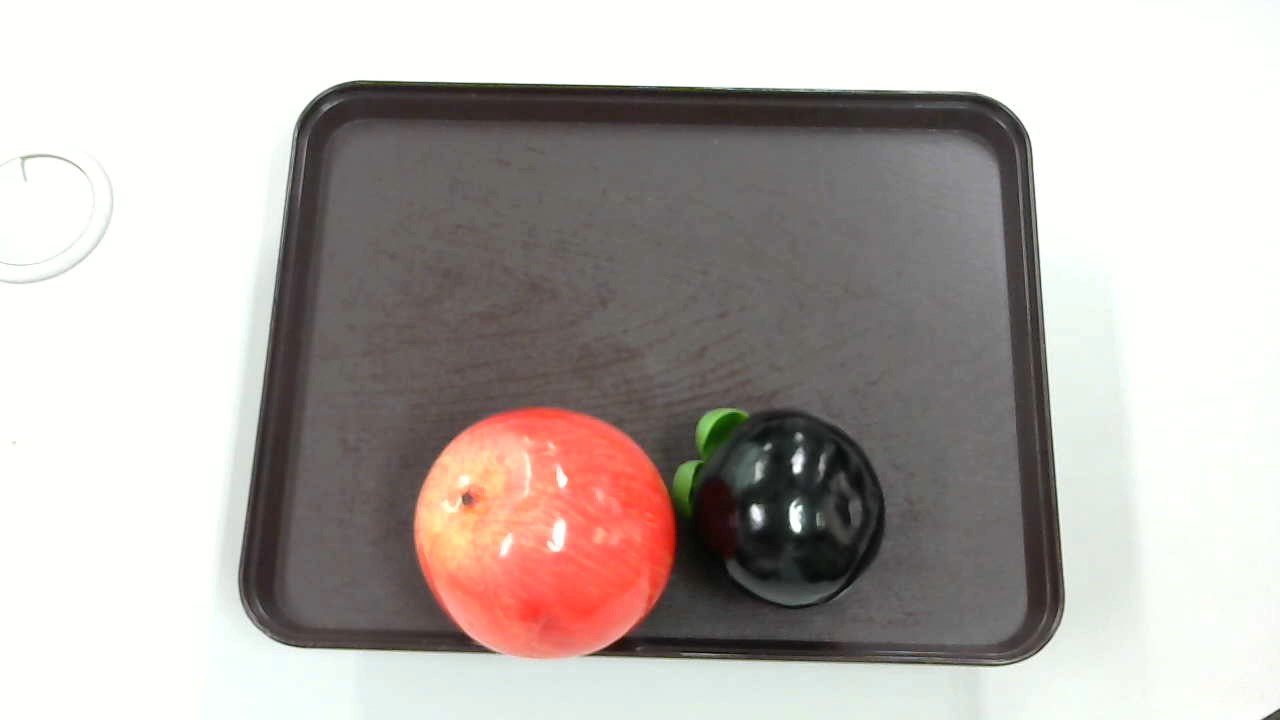mangosteen: (671, 395, 890, 615)
red apple: (412, 407, 673, 668)
